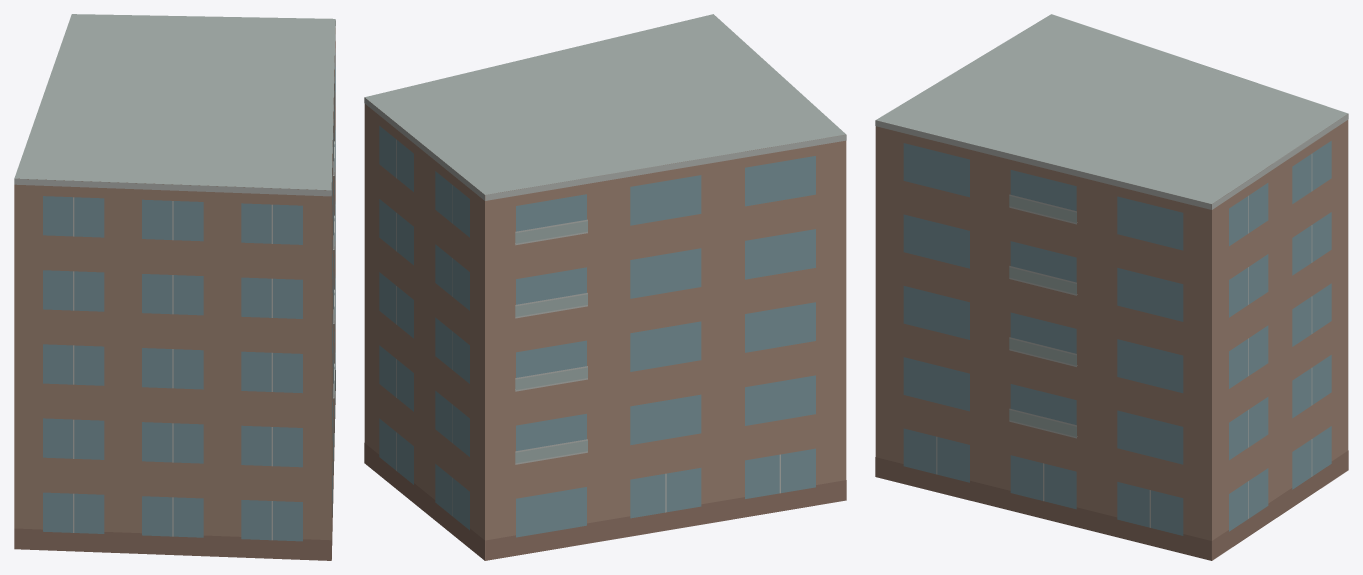
File: survey-upis-32489132.glb
The picture shows the model from 3 angles, left to right: view 1: azimuth 30°, elevation 25°; view 2: azimuth 150°, elevation 25°; view 3: azimuth 270°, elevation 25°; orthographic projection. The views are drawn at different scales.
Visible parts, largest first — view 1: survey-upis-32489132.tmp; view 2: survey-upis-32489132.tmp; view 3: survey-upis-32489132.tmp.
Part boxes in pixels (x1,y1,x2,y2): survey-upis-32489132.tmp: (14,14,335,560); survey-upis-32489132.tmp: (364,14,846,560); survey-upis-32489132.tmp: (875,14,1348,560).
Bounding box in the file's own units: 16.81 × 14.7 × 17.67.
